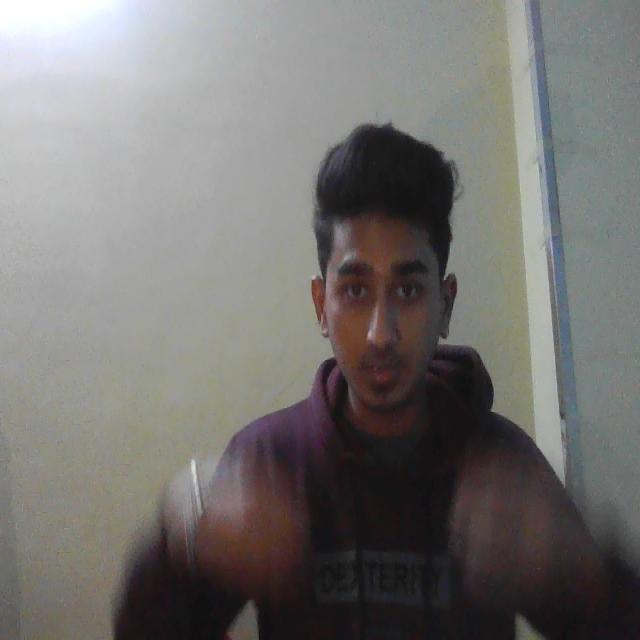real: (307, 132, 469, 437)
